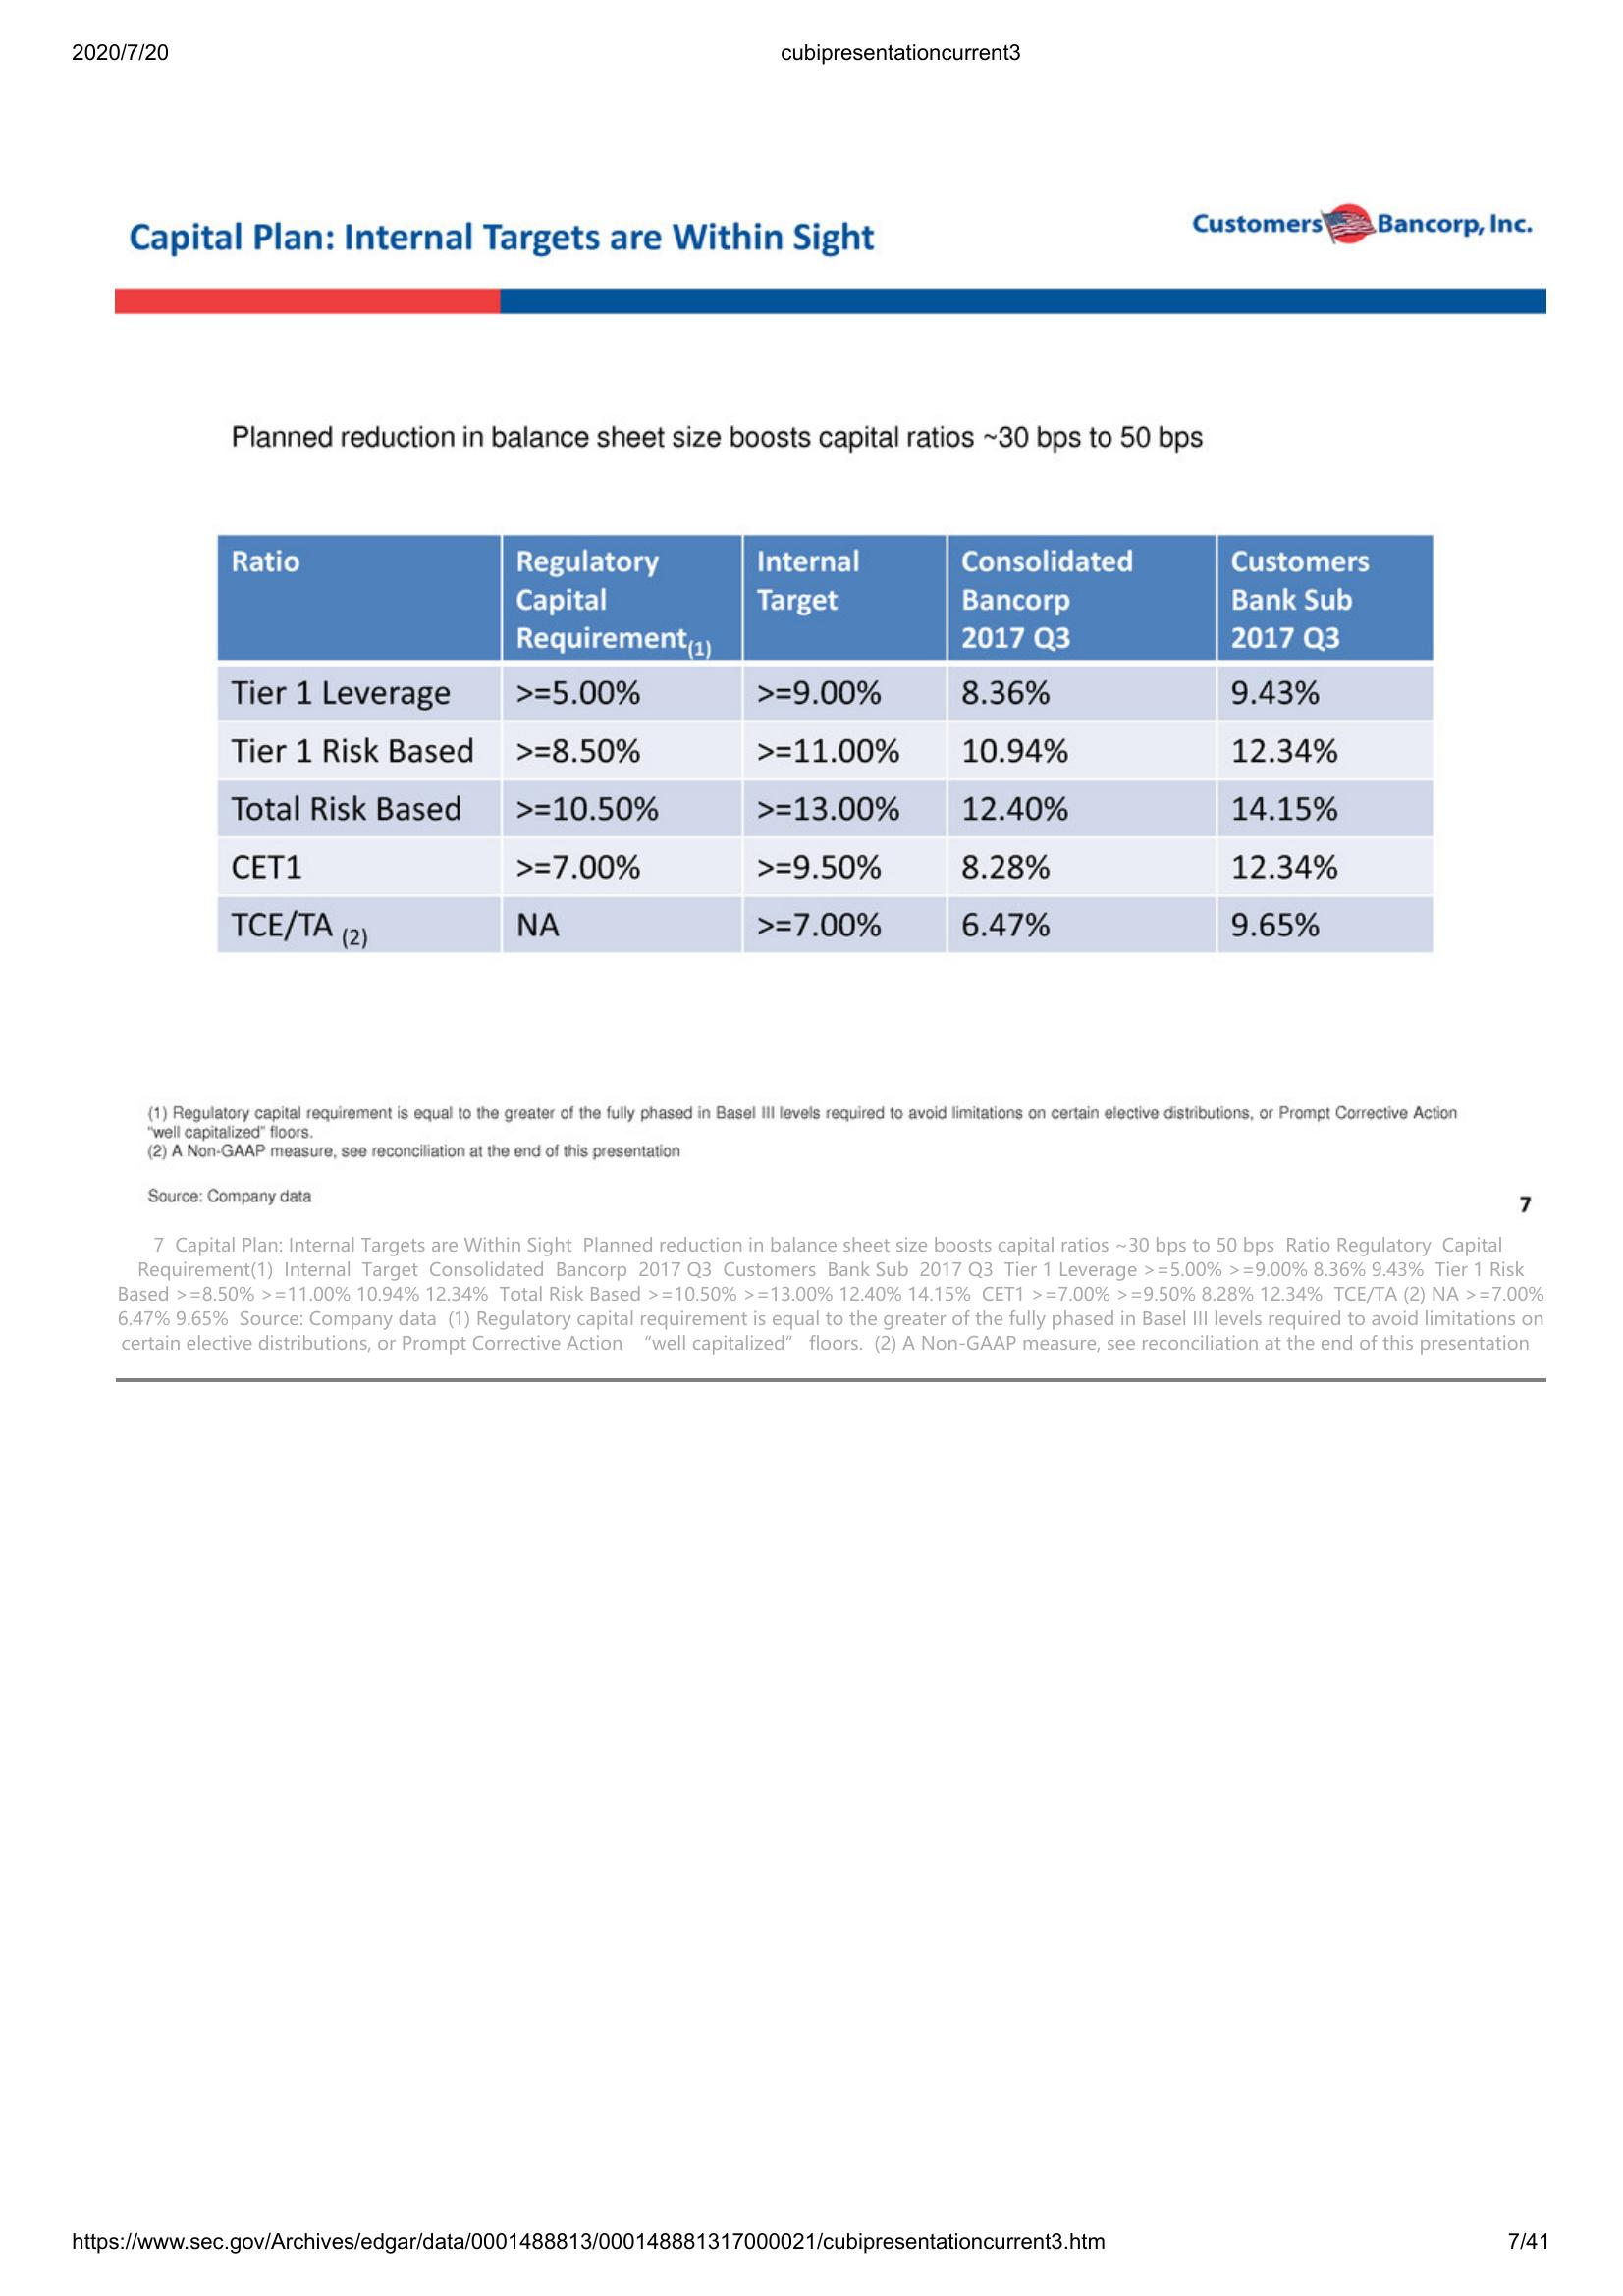table: (211, 530, 1440, 957)
